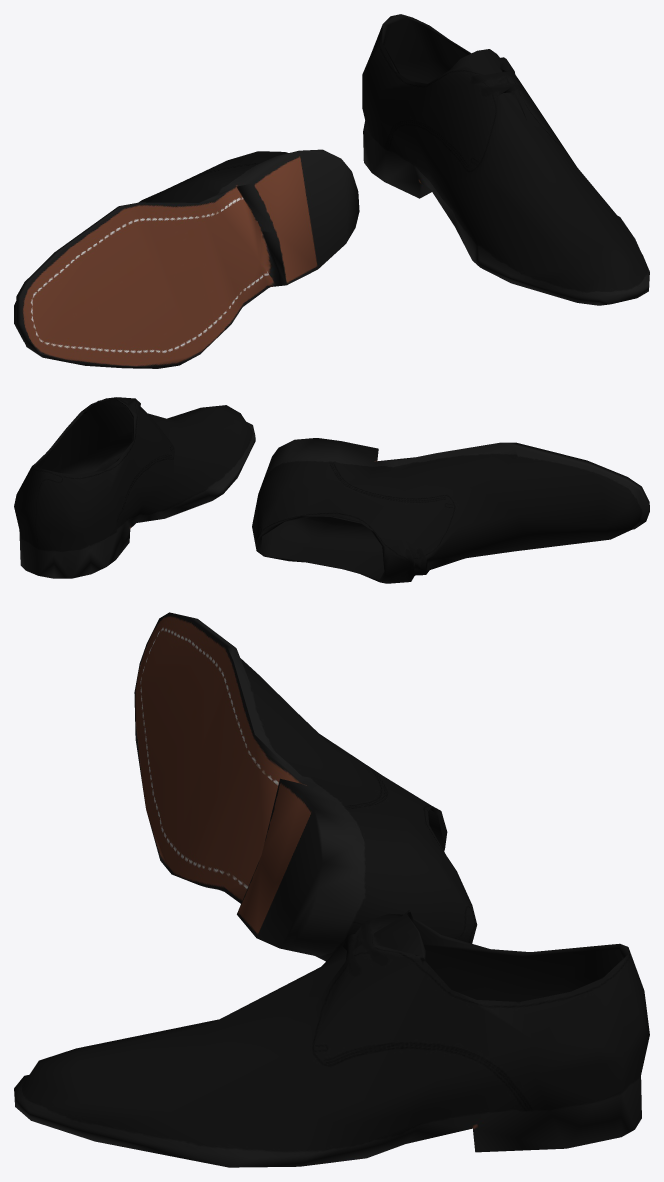
The model's file is shoe.dae.
3 renders of one model, top to bottom at view 1: azimuth 30°, elevation 25°; view 2: azimuth 150°, elevation 25°; view 3: azimuth 270°, elevation 25°, orthographic. The views are drawn at different scales.
Visible parts, largest first — view 1: mesh_0; view 2: mesh_0; view 3: mesh_0.
Boxes of the visible parts, x1,y1,x2,y2 form: mesh_0: [14, 14, 649, 368]; mesh_0: [14, 397, 649, 583]; mesh_0: [14, 612, 649, 1167].
Size of the model in its own units: 0.5237 by 0.3421 by 0.12.
Materials: 1 (1 with a texture image).
